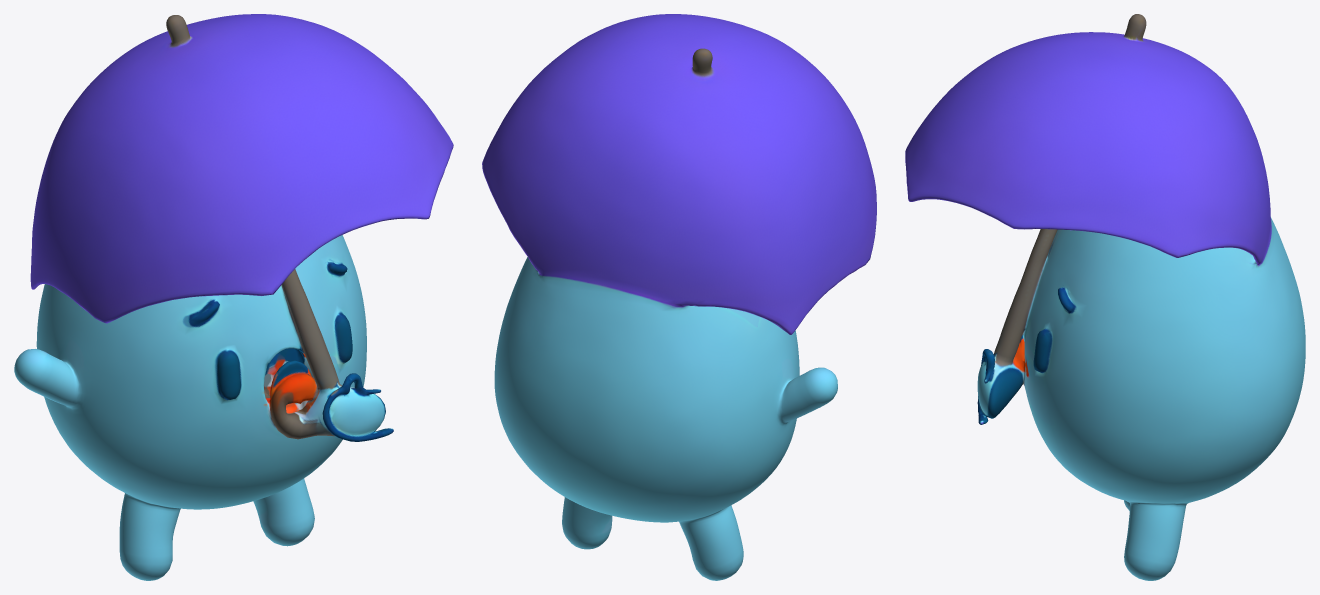
File: walter.glb
3 views of the same model, side by side, from view 1: azimuth 30°, elevation 25°; view 2: azimuth 150°, elevation 25°; view 3: azimuth 270°, elevation 25° (orthographic). The views are drawn at different scales.
Visible parts, largest first — view 1: model; view 2: model; view 3: model.
Part boxes in pixels (x1,y1,x2,y2): model: (14, 14, 453, 580); model: (482, 14, 876, 580); model: (905, 14, 1305, 580).
Size of the model in its own units: 1.27 by 1.84 by 1.3.
Materials: 1 (1 with a texture image).
